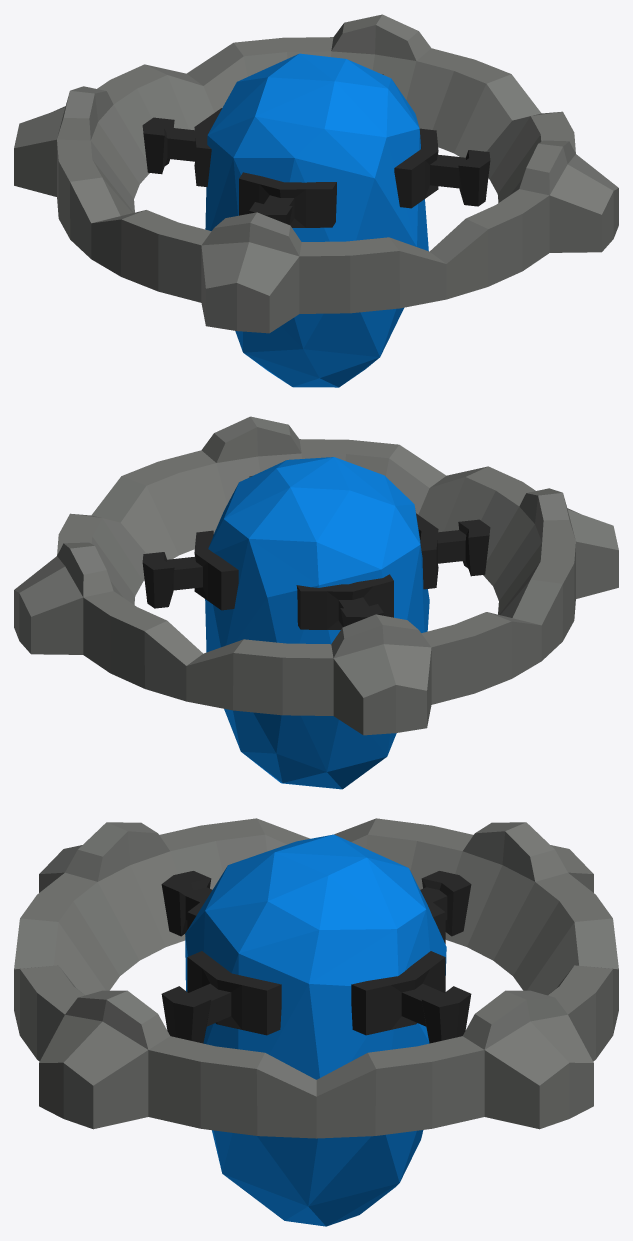
The model's file is nexus.fbx.
3 renders of one model, top to bottom at view 1: azimuth 30°, elevation 25°; view 2: azimuth 150°, elevation 25°; view 3: azimuth 270°, elevation 25°, orthographic. The views are drawn at different scales.
Visible parts, largest first — view 1: base, core, supports; view 2: base, core, supports; view 3: base, core, supports.
Boxes of the visible parts, x1,y1,x2,y2 form: base: (14,14,618,333); core: (205,53,428,387); supports: (142,74,490,227); base: (14,416,618,735); core: (205,457,429,789); supports: (142,476,490,629); base: (14,818,618,1138); core: (185,834,446,1226); supports: (161,871,471,1043).
Size of the model in its own units: 460 by 299 by 460.
